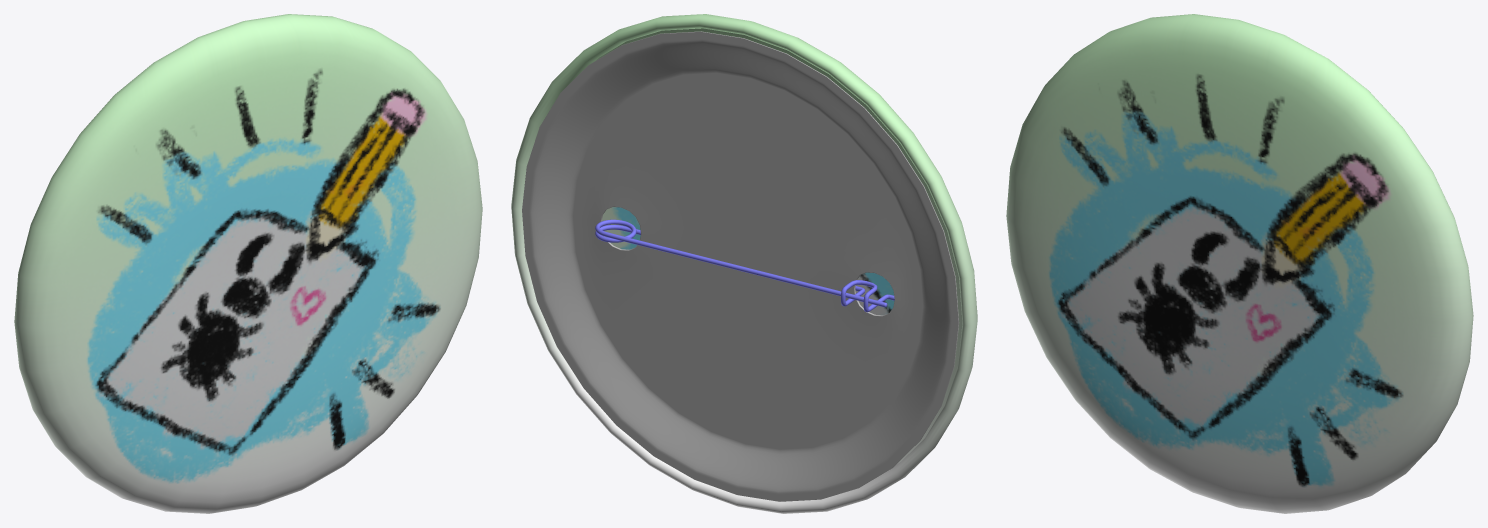
3 views of the same model, side by side, from view 1: azimuth 30°, elevation 25°; view 2: azimuth 150°, elevation 25°; view 3: azimuth 330°, elevation 25° (orthographic).
Parts seen in each view (by area): view 1: Button_Pin; view 2: Button_Pin; view 3: Button_Pin.
Boxes of the visible parts, x1,y1,x2,y2 form: Button_Pin: (14, 14, 482, 513); Button_Pin: (511, 14, 977, 513); Button_Pin: (1006, 14, 1473, 513).
Size of the model in its own units: 0.0629 by 0.0629 by 0.00761.
Materials: 3 (2 with a texture image).
